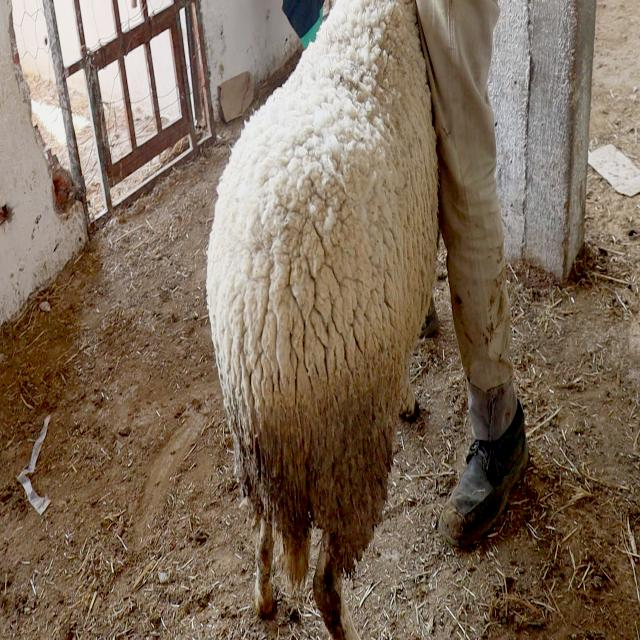Score_5: (207, 0, 437, 639)
